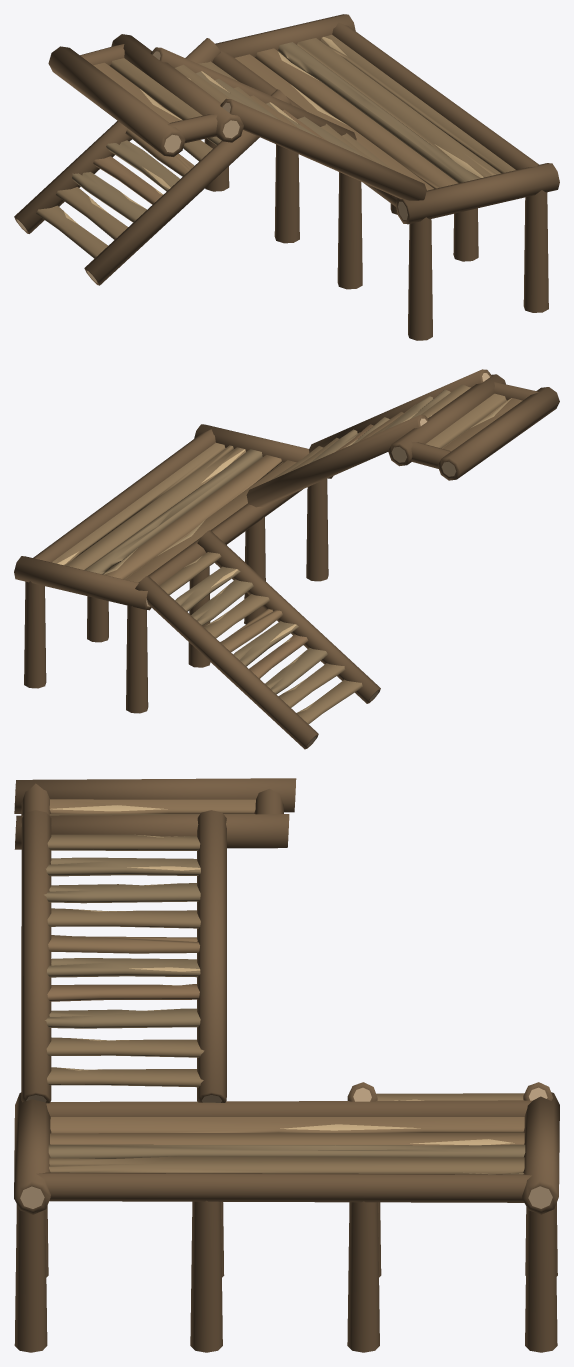
File: rpgpp_ag_stairs_interior_02e_4m.fbx
The picture shows the model from 3 angles, top to bottom: view 1: azimuth 30°, elevation 25°; view 2: azimuth 150°, elevation 25°; view 3: azimuth 270°, elevation 25°; orthographic projection. The views are drawn at different scales.
Visible parts, largest first — view 1: rpgpp_ag_stairs_interior_02e_4m; view 2: rpgpp_ag_stairs_interior_02e_4m; view 3: rpgpp_ag_stairs_interior_02e_4m.
Boxes of the visible parts, bbox=[...] form: rpgpp_ag_stairs_interior_02e_4m: bbox=[14, 14, 559, 340]; rpgpp_ag_stairs_interior_02e_4m: bbox=[14, 369, 559, 749]; rpgpp_ag_stairs_interior_02e_4m: bbox=[14, 778, 559, 1352].
Size of the model in its own units: 6.25 by 4.19 by 5.91.
